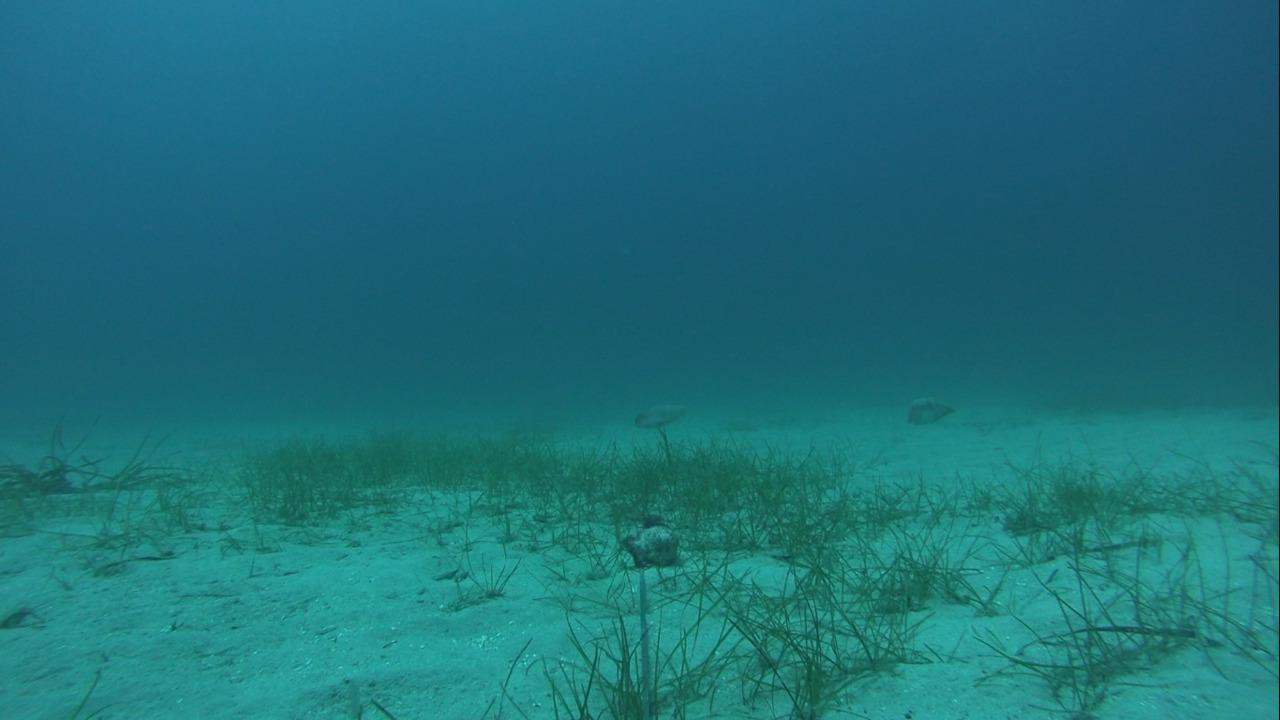raor: (897, 393, 964, 432), (626, 401, 698, 433)
